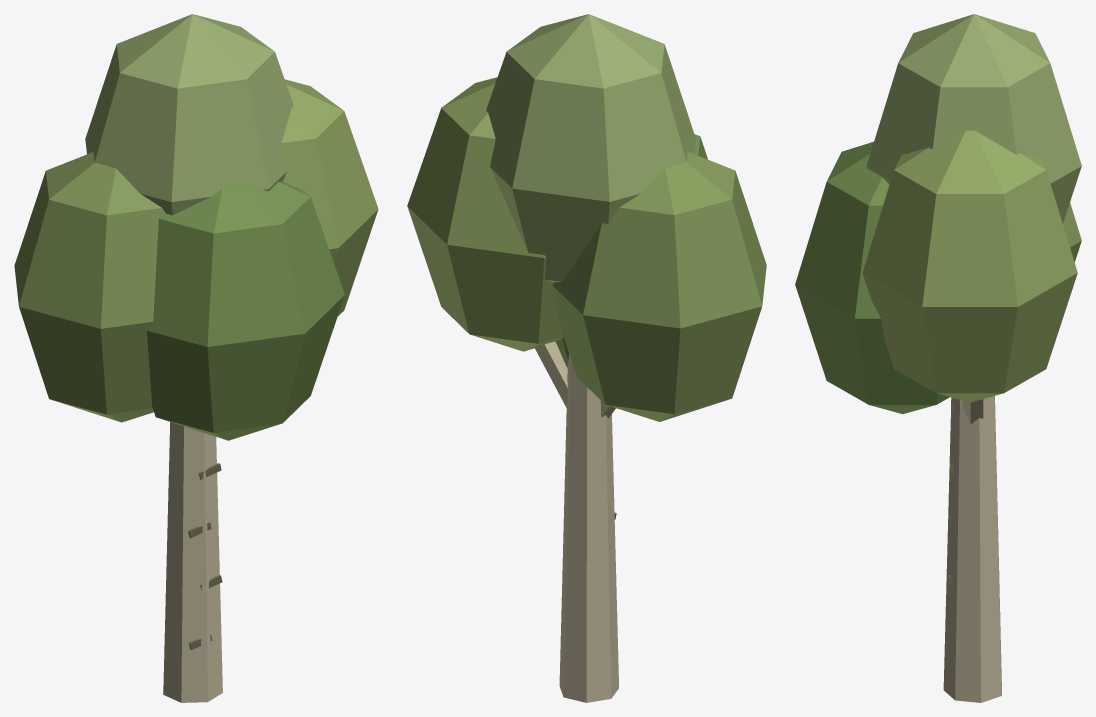
Rendered from tree-birch.glb.
3 views of the same model, side by side, from view 1: azimuth 30°, elevation 25°; view 2: azimuth 150°, elevation 25°; view 3: azimuth 270°, elevation 25° (orthographic).
Visible parts, largest first — view 1: tree-birch_mesh; view 2: tree-birch_mesh; view 3: tree-birch_mesh.
Boxes of the visible parts, left/top/right/bottom form: tree-birch_mesh: left=14, top=14, right=378, bottom=702; tree-birch_mesh: left=407, top=14, right=766, bottom=702; tree-birch_mesh: left=795, top=14, right=1081, bottom=702.
Bounding box in the file's own units: 1.88 × 3.65 × 1.4.
